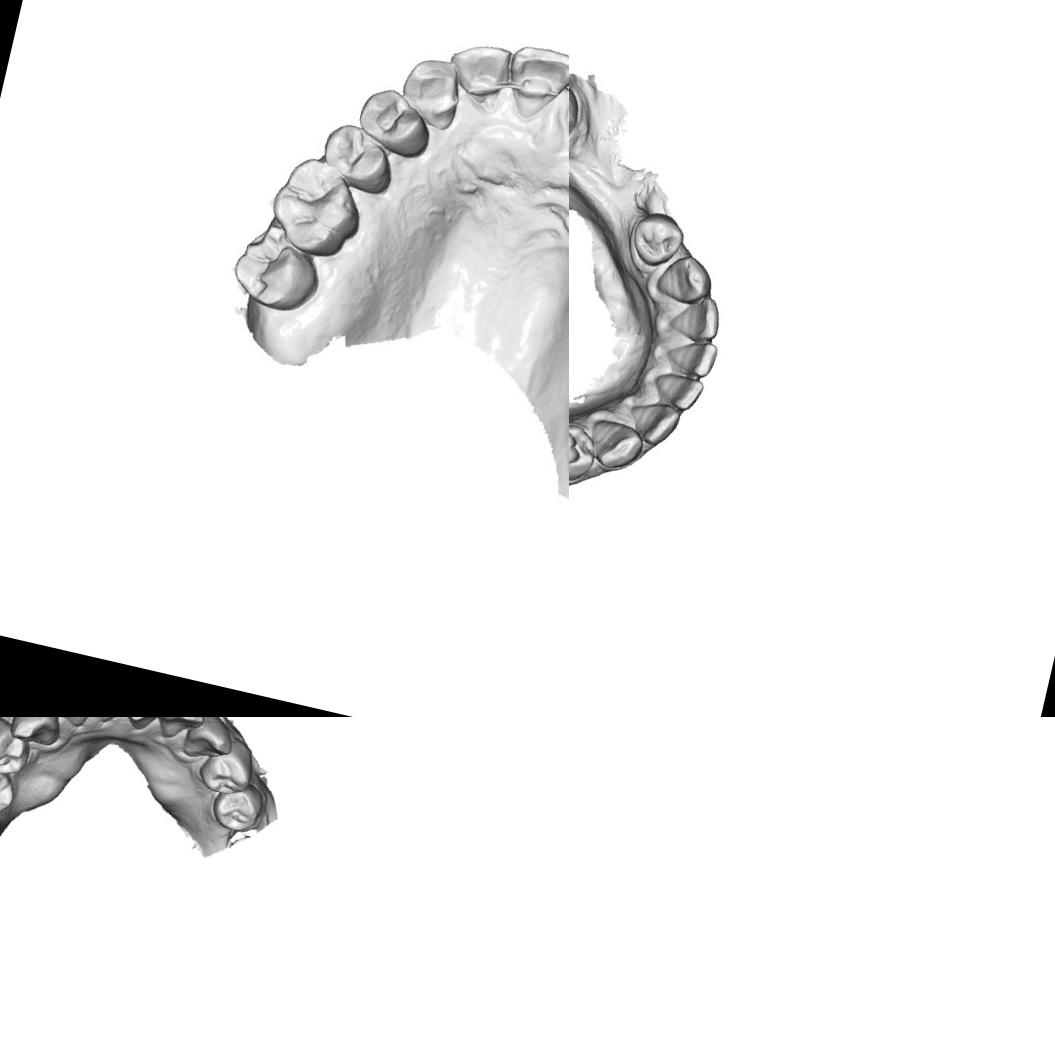canine: (394, 51, 467, 134), (652, 248, 719, 310), (584, 415, 647, 476), (179, 717, 242, 767), (6, 717, 69, 750)
incisor: (498, 38, 569, 127), (442, 36, 514, 105), (662, 290, 726, 348), (622, 394, 683, 450), (661, 331, 722, 381), (650, 368, 707, 414), (155, 717, 208, 746), (122, 717, 171, 737), (42, 717, 97, 731), (85, 717, 136, 729)
molar: (262, 150, 372, 264), (226, 217, 329, 318)
premolar: (352, 82, 438, 162), (317, 118, 402, 198), (192, 730, 262, 801), (626, 206, 688, 273), (206, 776, 270, 839), (0, 717, 38, 781), (569, 417, 601, 487), (0, 755, 22, 822)
